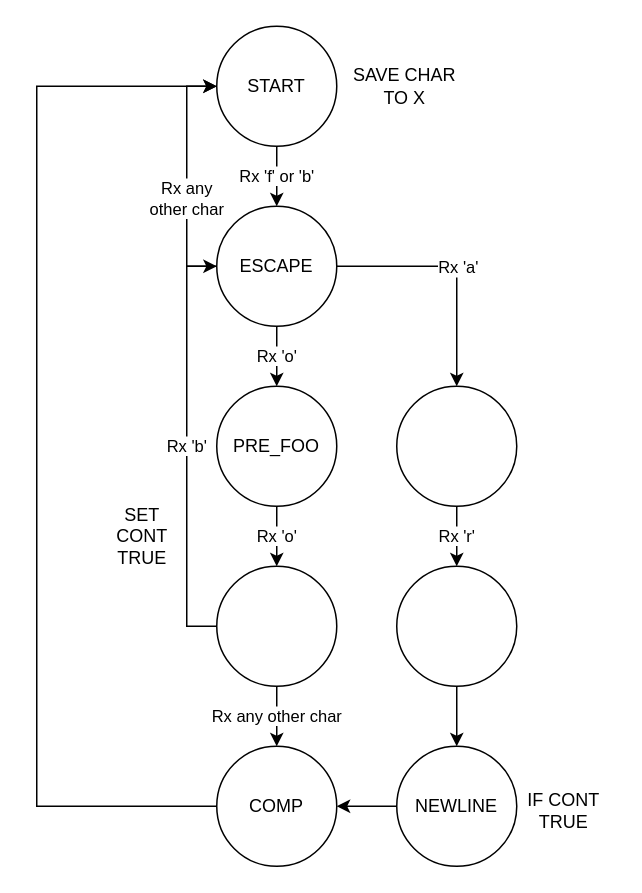
The diagram is 642 pixels wide and 893 high, and some of its shapes have lost their labels. Each missing label, with the centre of its shape:
"BAR_COMP" belongs at point 456,625.
"FOO_COMP" belongs at point 276,625.
"PRE_BAR" belongs at point 456,445.
